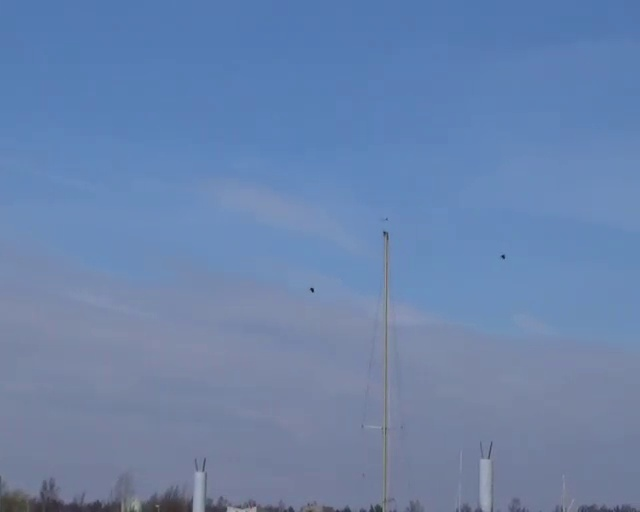BIRD: (498, 252, 508, 261)
